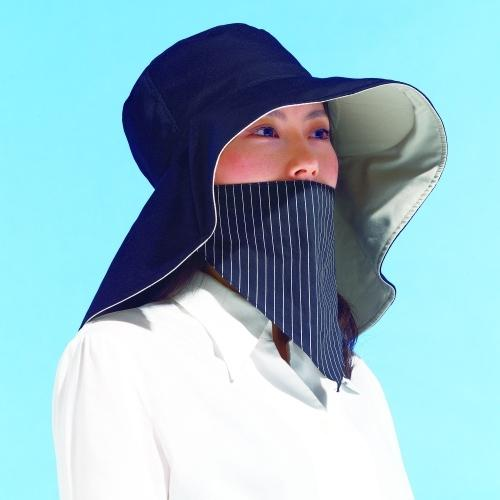WRONG: (206, 105, 349, 248)
